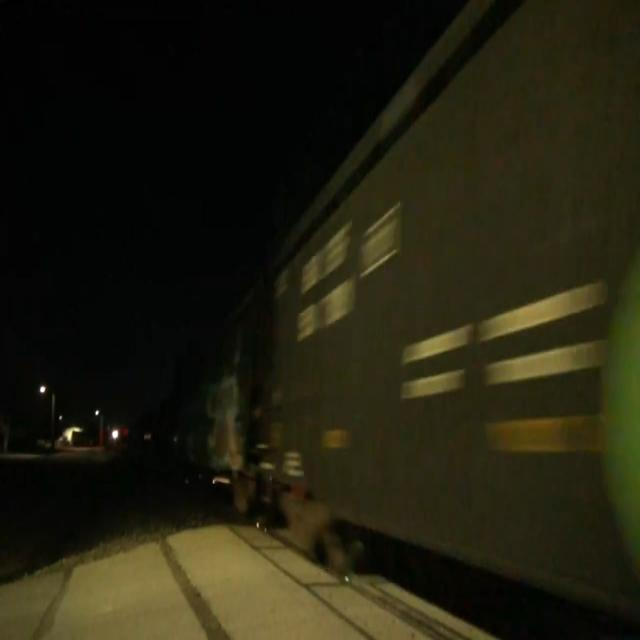gondola: (262, 0, 640, 636)
